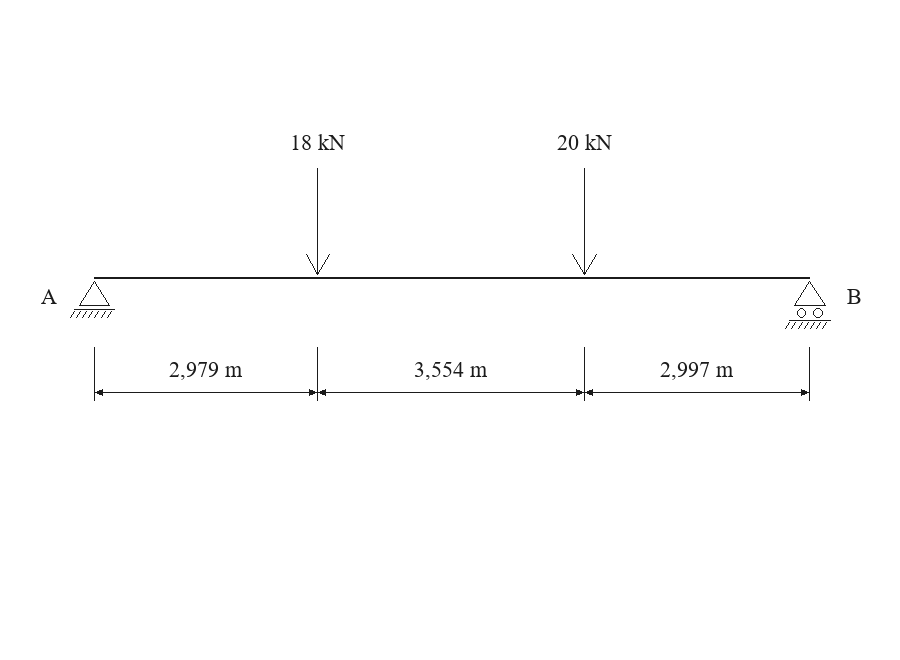pin_support: (70, 281, 115, 318)
point_load: (572, 168, 597, 275), (306, 168, 330, 275)
roller_support: (785, 281, 831, 329)
